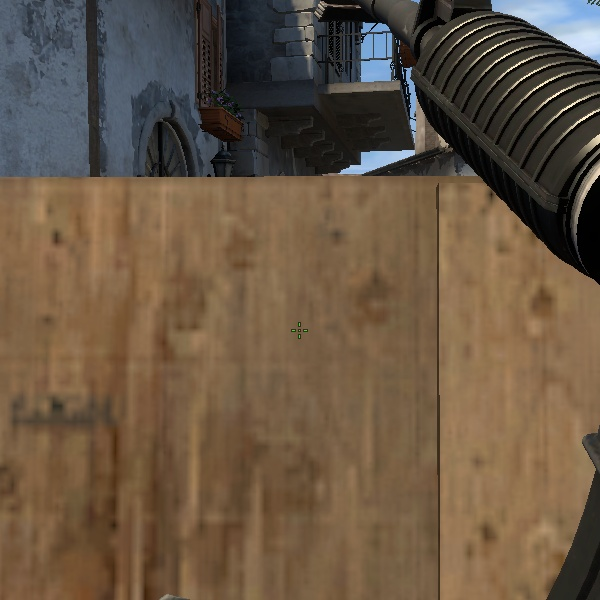t_body: (65, 0, 590, 600)
